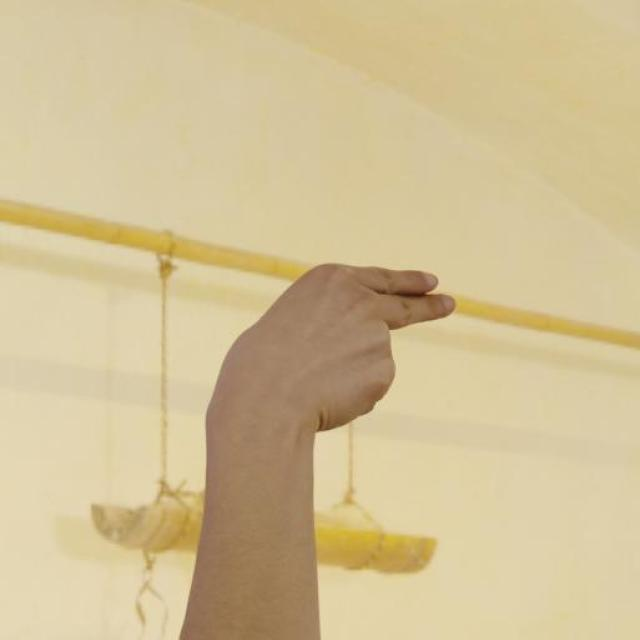H: (204, 264, 462, 424)
